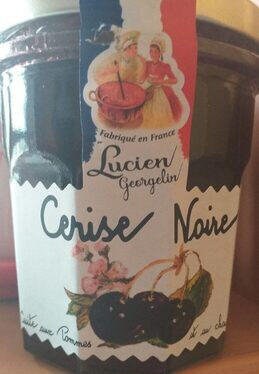Cerise Noire: (13, 19, 246, 355)
